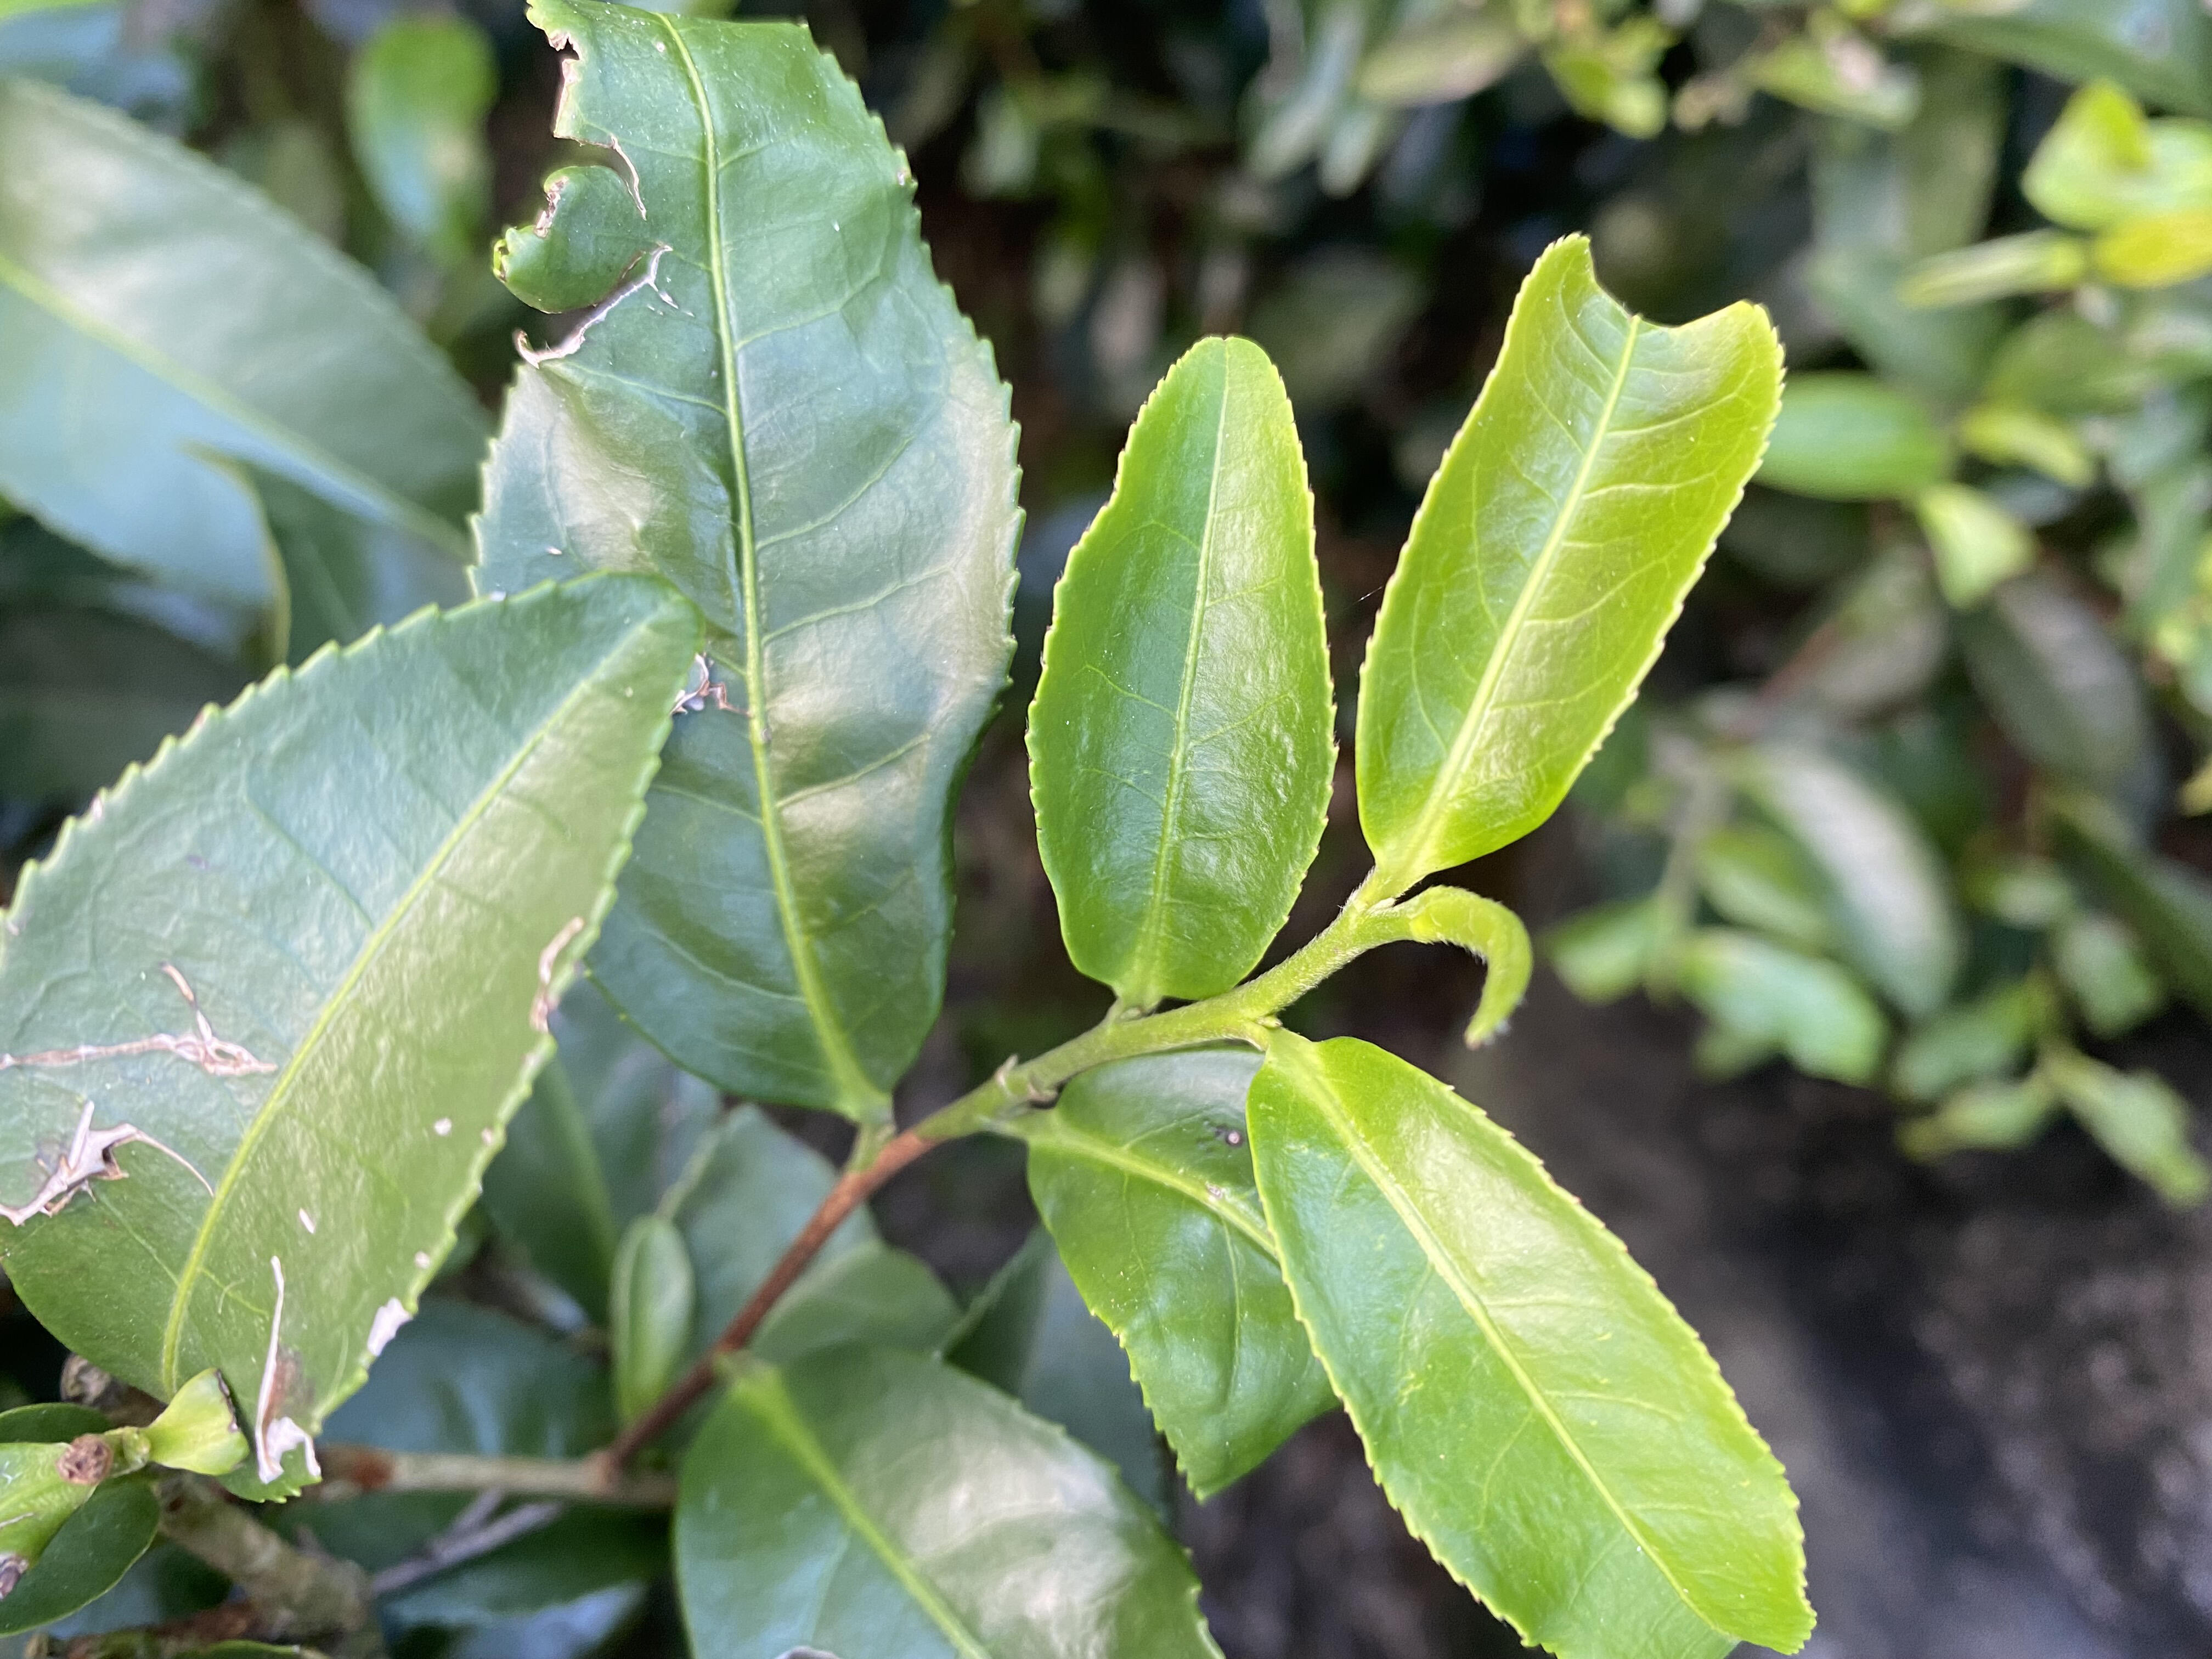chihuo_high: (463, 2, 1031, 1105)
chihuo_low: (1355, 232, 1789, 878)
healthy: (1247, 1032, 1820, 1657), (1021, 336, 1341, 1002)
tanju_high: (3, 570, 702, 1486)
